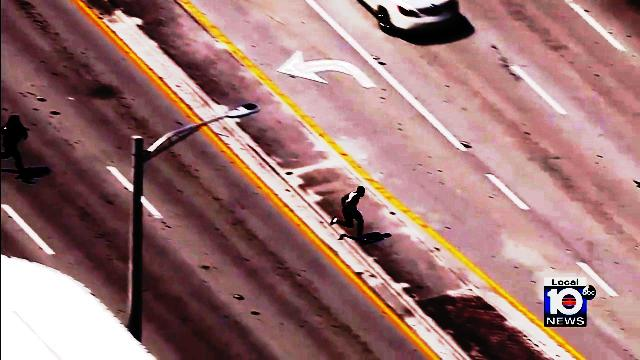berlari: (1, 108, 36, 184), (329, 183, 368, 243)
